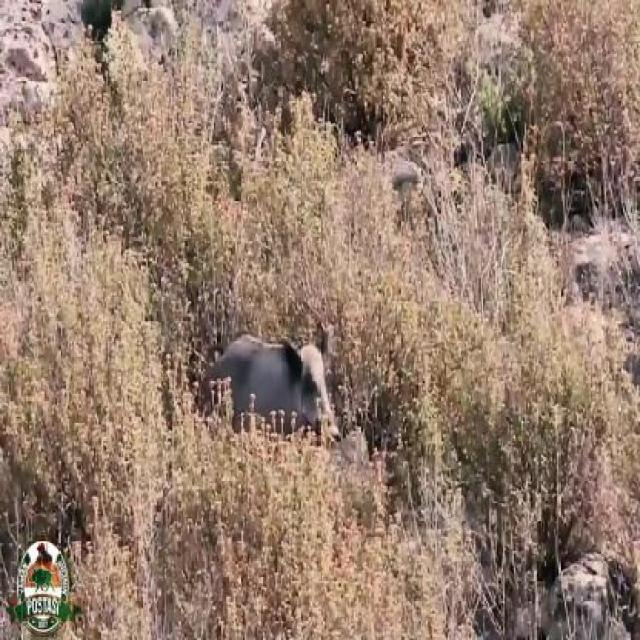pig: (217, 303, 346, 472)
